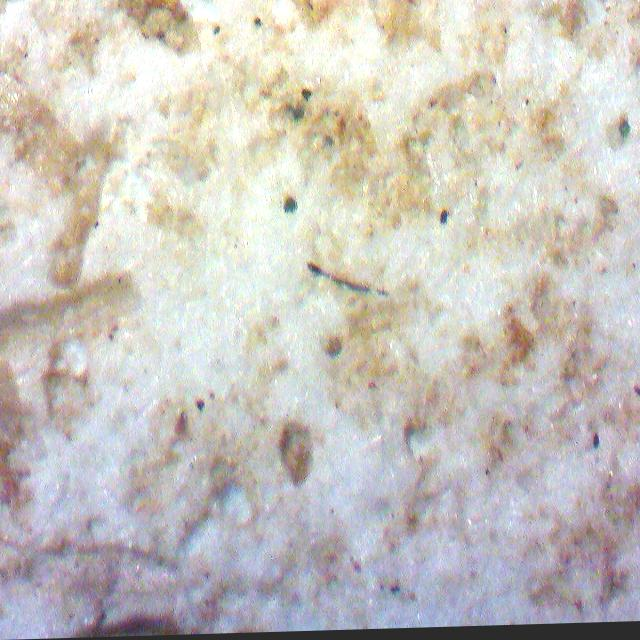microplastic: (306, 264, 392, 299)
